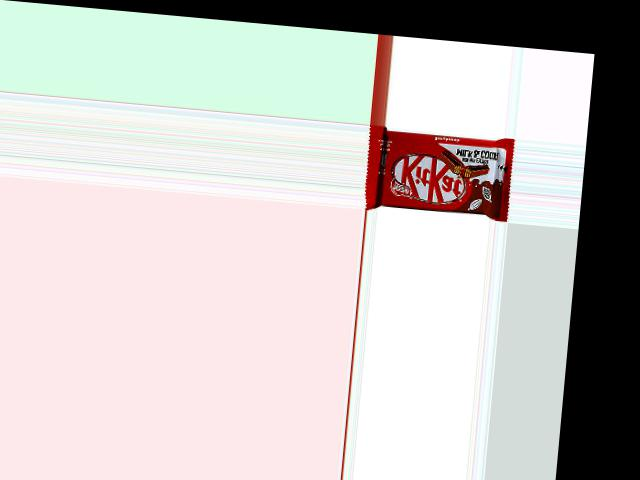chocolate: (363, 124, 516, 222)
